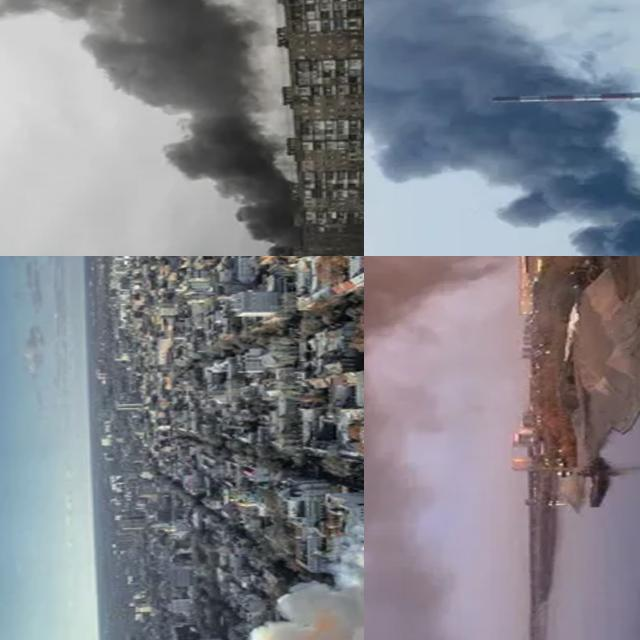smoke: (364, 0, 640, 256), (92, 0, 300, 256), (364, 256, 607, 458), (211, 521, 364, 640)
